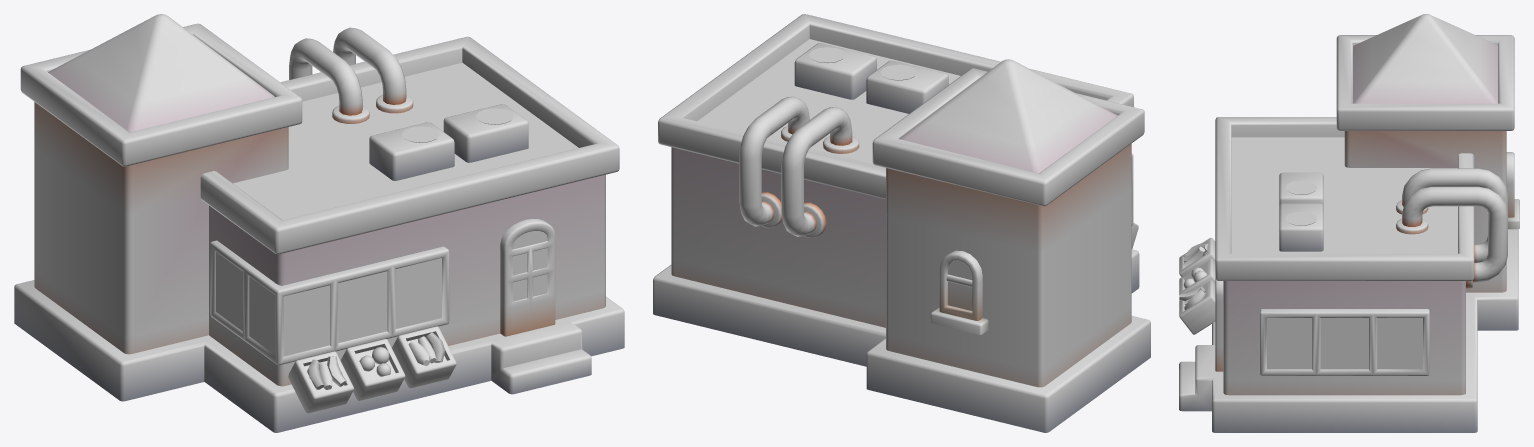
Rendered from NF_Bld_Shop 07.fbx.
The picture shows the model from 3 angles, left to right: view 1: azimuth 30°, elevation 25°; view 2: azimuth 150°, elevation 25°; view 3: azimuth 270°, elevation 25°; orthographic projection. The views are drawn at different scales.
Parts seen in each view (by area): view 1: Shop_7; view 2: Shop_7; view 3: Shop_7.
Boxes of the visible parts, x1,y1,x2,y2 form: Shop_7: (14,14,624,432); Shop_7: (653,14,1150,432); Shop_7: (1179,14,1519,432).
Bounding box in the file's own units: 10.58 × 7.54 × 8.43.
